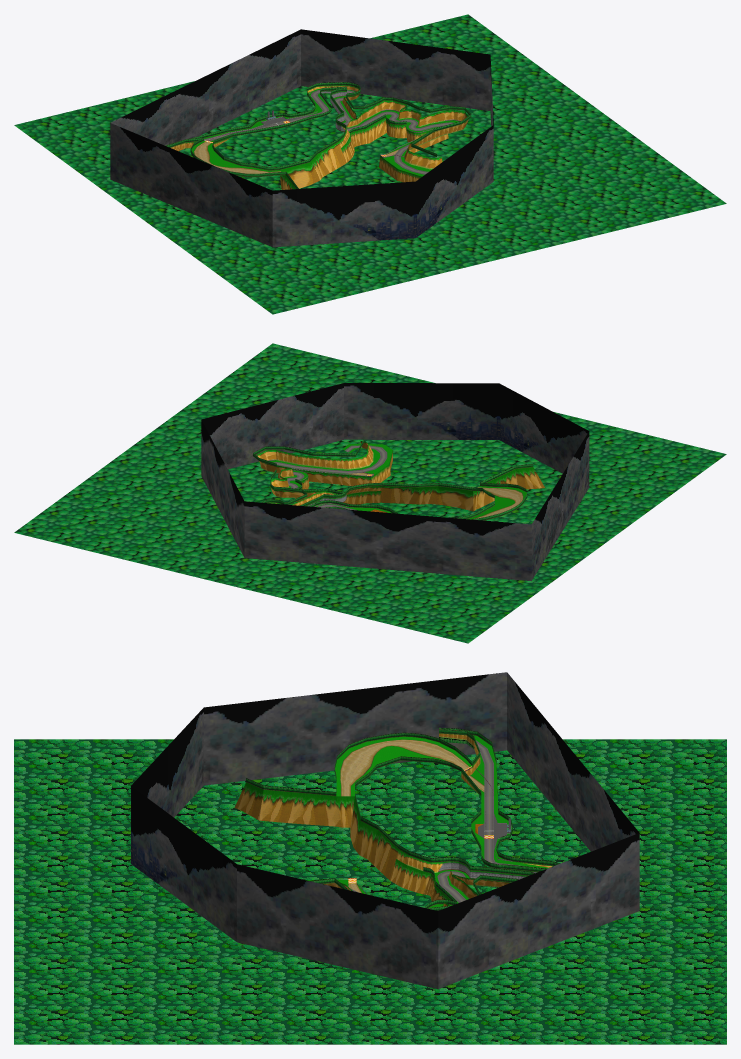
3 renders of one model, top to bottom at view 1: azimuth 30°, elevation 25°; view 2: azimuth 150°, elevation 25°; view 3: azimuth 270°, elevation 25°, orthographic. The views are drawn at different scales.
Parts seen in each view (by area): view 1: polygon5.005, polygon9.005, polygon10.005, polygon11.007, polygon1.006, polygon2.004, polygon8.006; view 2: polygon5.005, polygon9.005, polygon10.005, polygon11.007, polygon1.006, polygon2.004, polygon8.006; view 3: polygon5.005, polygon9.005, polygon11.007, polygon10.005, polygon1.006, polygon8.006, polygon2.004, polygon12.006.
Part boxes in pixels (x1,y1,x2,y2): polygon5.005: (14,14,726,314); polygon9.005: (110,29,493,247); polygon10.005: (272,125,493,247); polygon11.007: (165,82,471,189); polygon1.006: (191,89,459,176); polygon2.004: (204,90,453,174); polygon8.006: (193,141,399,173); polygon5.005: (14,343,726,643); polygon9.005: (201,383,589,581); polygon10.005: (344,383,588,473); polygon11.007: (253,439,544,520); polygon1.006: (269,443,526,519); polygon2.004: (273,445,387,510); polygon8.006: (348,472,523,518); polygon5.005: (14,739,726,1044); polygon9.005: (204,672,639,989); polygon11.007: (234,727,560,910); polygon10.005: (131,707,236,941); polygon1.006: (305,735,549,908); polygon8.006: (340,739,484,893); polygon2.004: (350,740,526,902); polygon12.006: (348,768,537,886).
Size of the model in its own units: 225694 by 35531 by 222681.
Materials: 13 (13 with a texture image).
